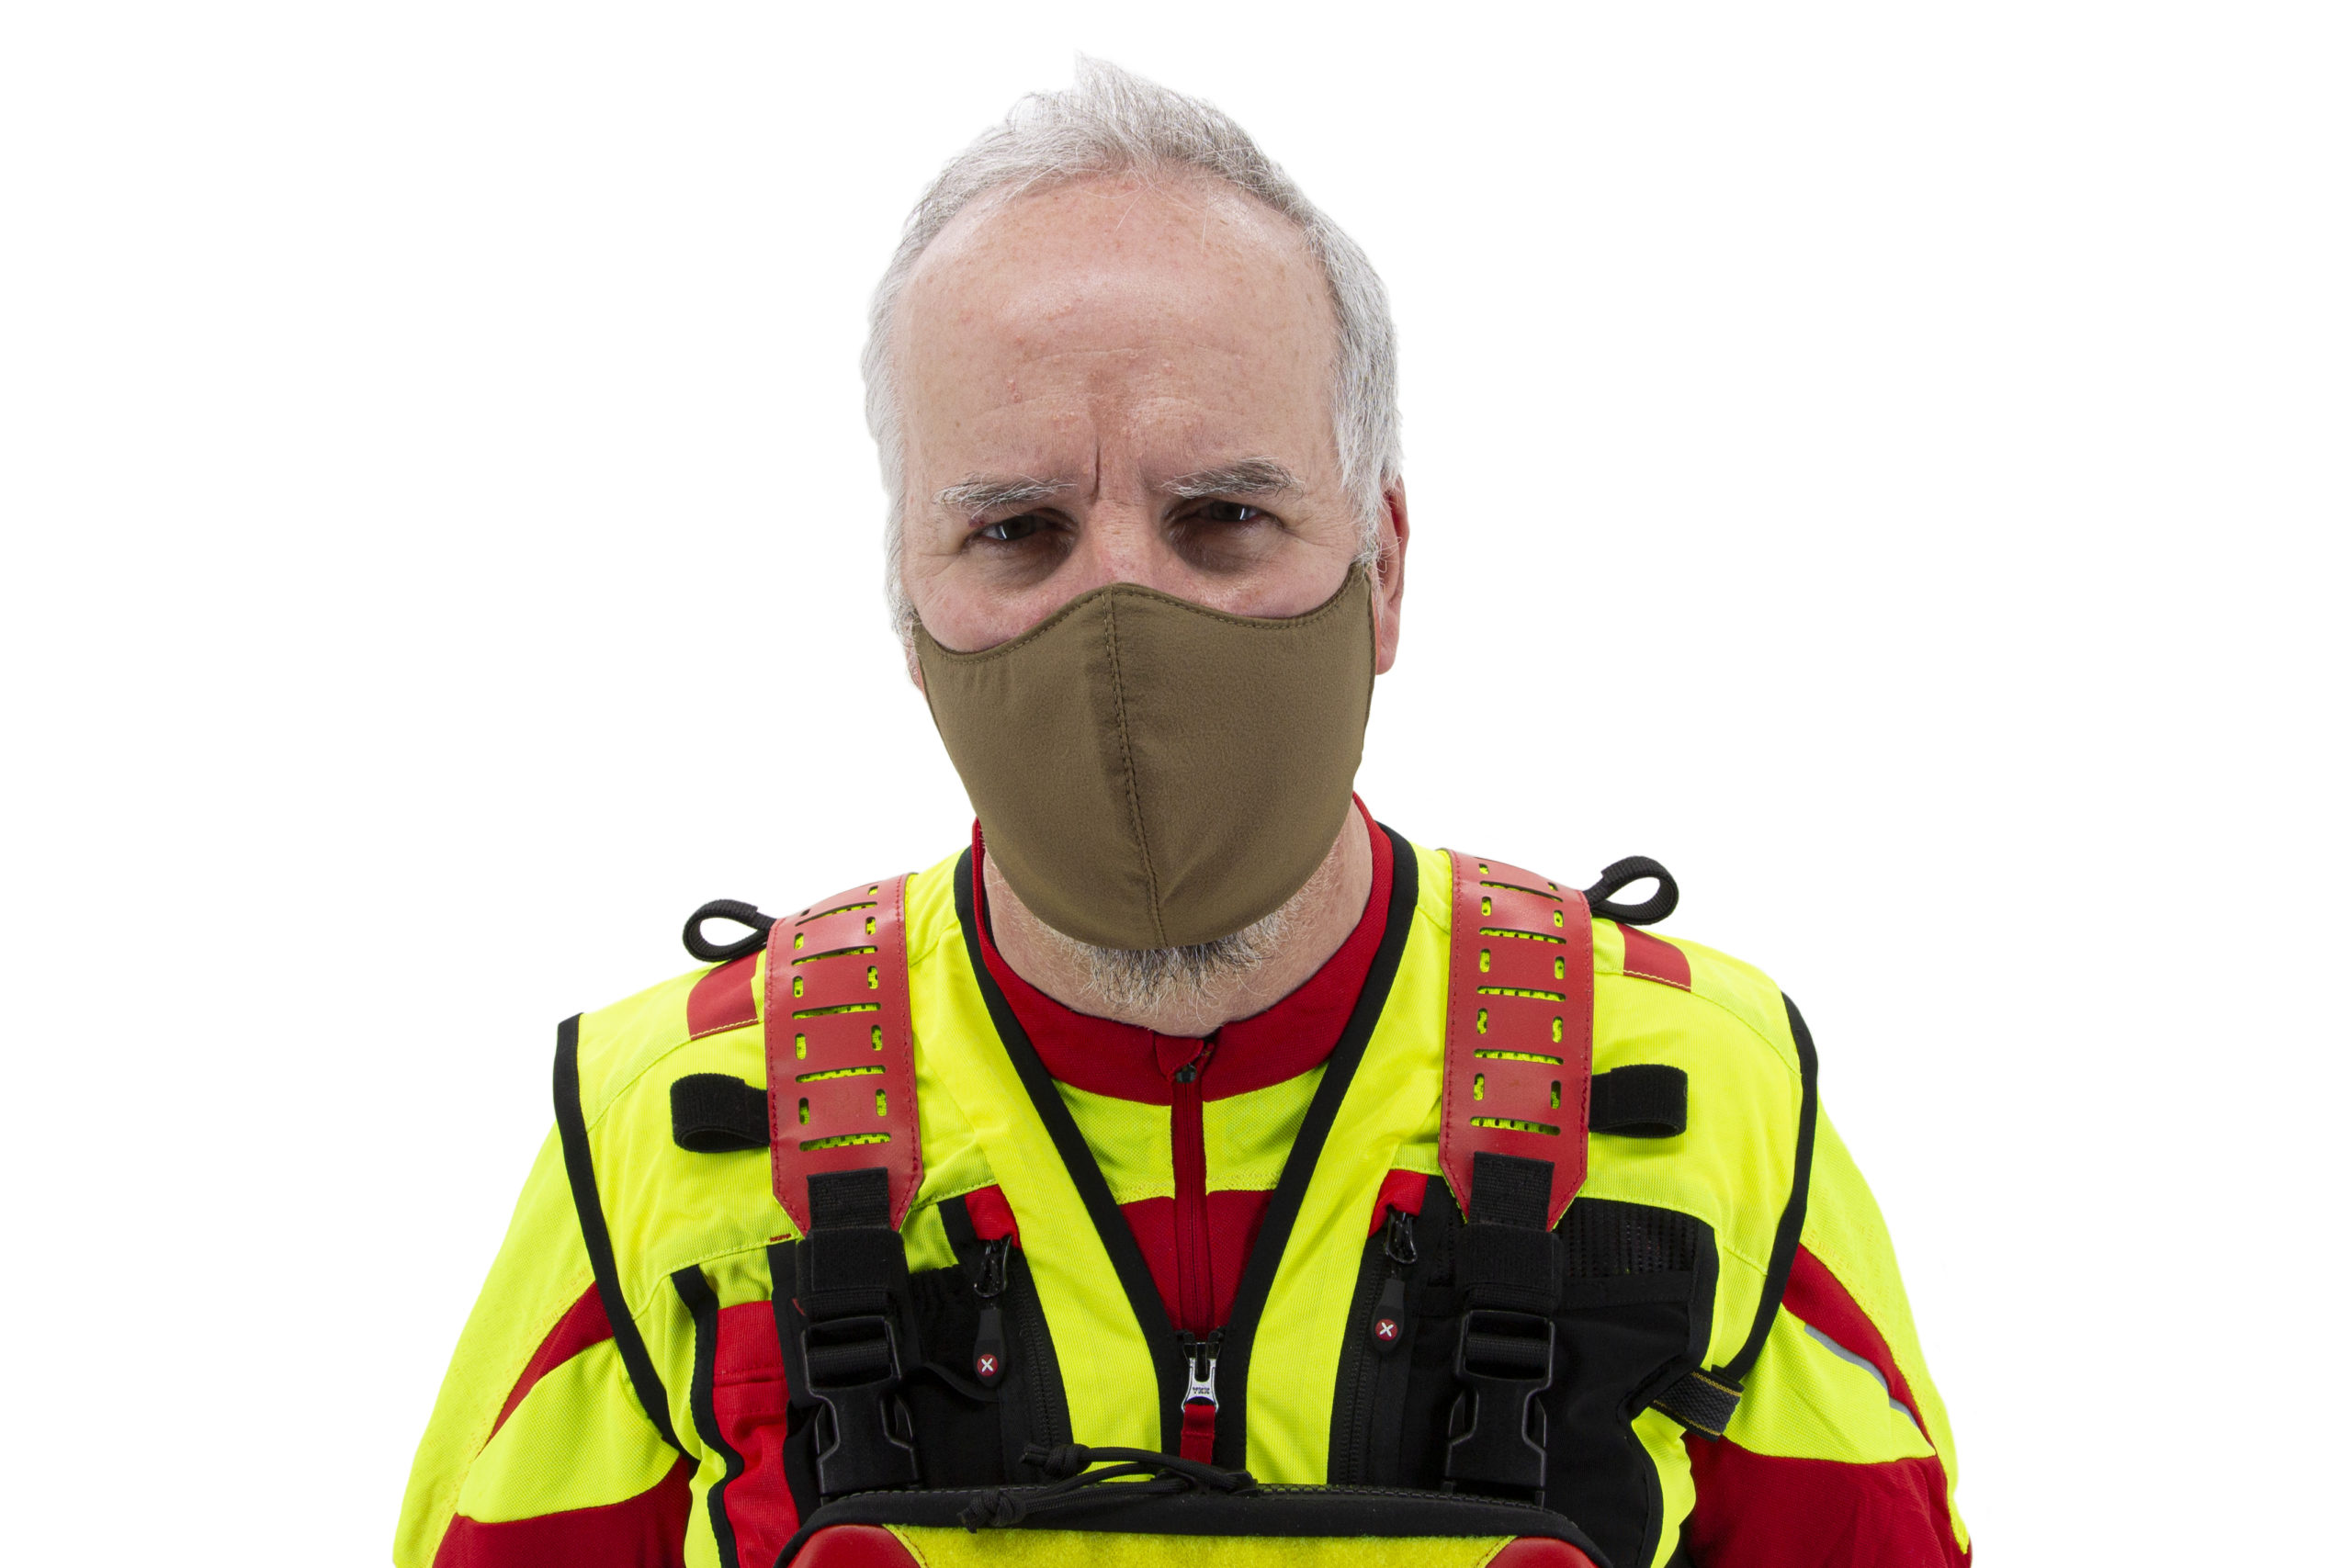with_mask: (874, 317, 1433, 957)
